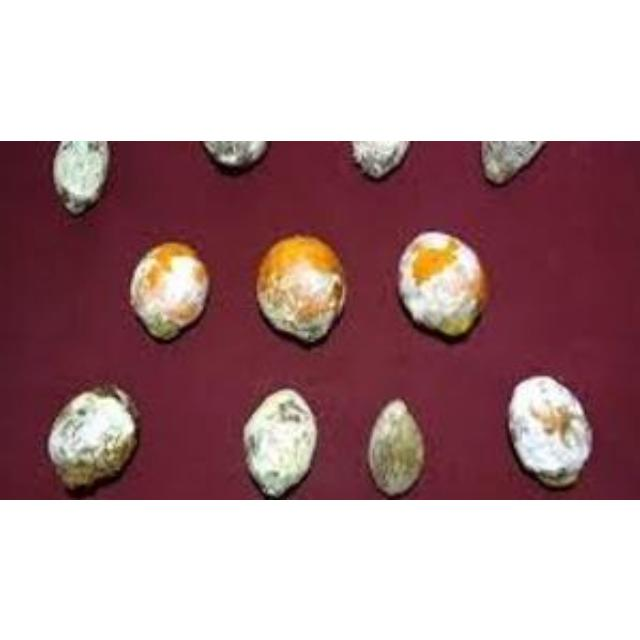damaged: (45, 382, 143, 497), (255, 234, 351, 350), (396, 230, 492, 345), (505, 375, 593, 491), (240, 386, 319, 497), (128, 241, 212, 343), (366, 399, 426, 497), (56, 140, 111, 217), (479, 140, 552, 187), (195, 140, 274, 179), (347, 140, 413, 181)
